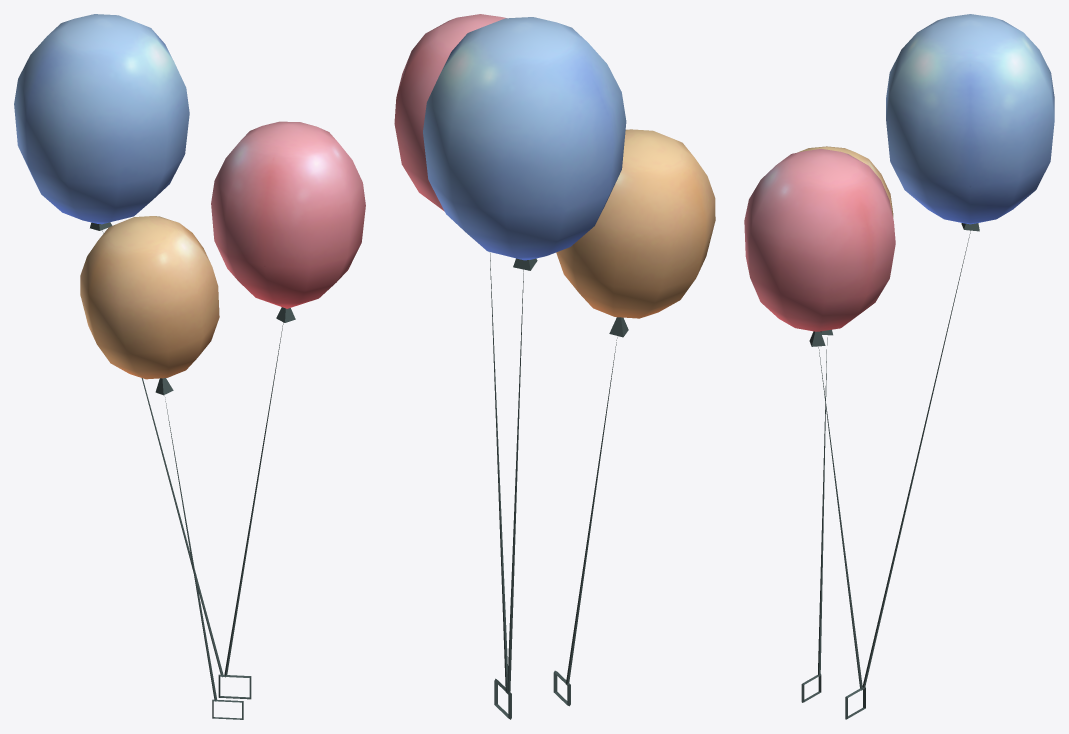
The model's file is JiaoWaiSenLin_qiqiu_01_UV2.FBX.
The picture shows the model from 3 angles, left to right: view 1: azimuth 30°, elevation 25°; view 2: azimuth 150°, elevation 25°; view 3: azimuth 270°, elevation 25°; orthographic projection. The views are drawn at different scales.
Parts seen in each view (by area): view 1: JiaoWaiSenLin_qiqiu_01_UV2; view 2: JiaoWaiSenLin_qiqiu_01_UV2; view 3: JiaoWaiSenLin_qiqiu_01_UV2.
Boxes of the visible parts, x1=… form: JiaoWaiSenLin_qiqiu_01_UV2: x1=14, y1=14, x2=365, y2=719; JiaoWaiSenLin_qiqiu_01_UV2: x1=394, y1=14, x2=715, y2=719; JiaoWaiSenLin_qiqiu_01_UV2: x1=744, y1=14, x2=1054, y2=719.
Size of the model in its own units: 283 by 674 by 289.
